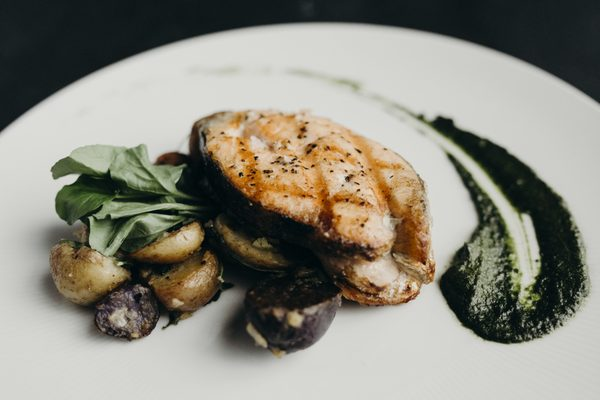soup: (186, 106, 435, 307)
